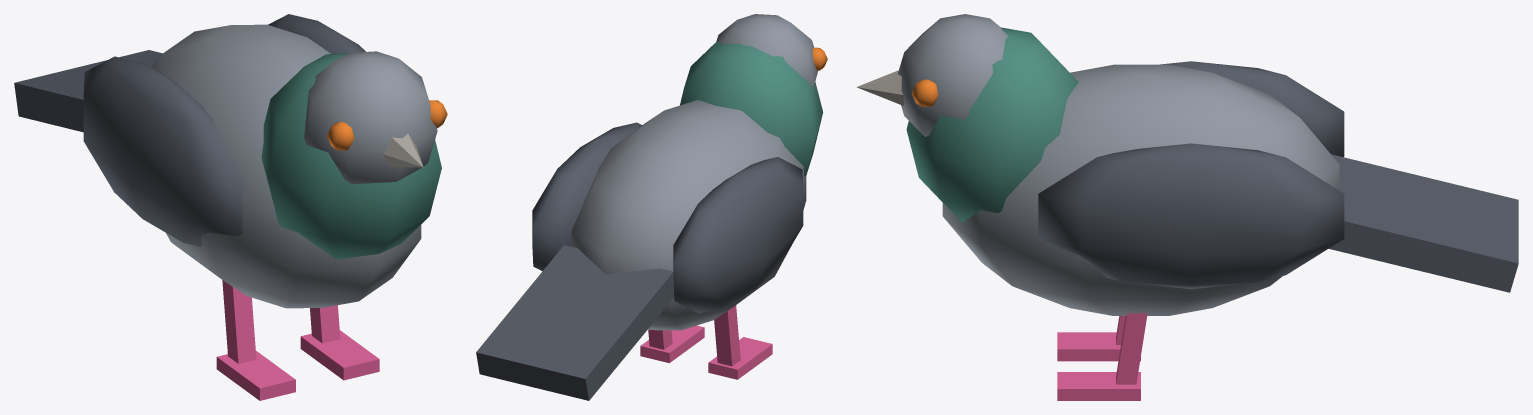
Rendered from pombo.glb.
The picture shows the model from 3 angles, left to right: view 1: azimuth 30°, elevation 25°; view 2: azimuth 150°, elevation 25°; view 3: azimuth 270°, elevation 25°; orthographic projection. The views are drawn at different scales.
Parts seen in each view (by area): view 1: pombo; view 2: pombo; view 3: pombo.
Part boxes in pixels (x1,y1,x2,y2): pombo: [14, 14, 447, 400]; pombo: [476, 14, 827, 400]; pombo: [856, 14, 1518, 400].
Bounding box in the file's own units: 0.1617 × 0.2328 × 0.3954.
